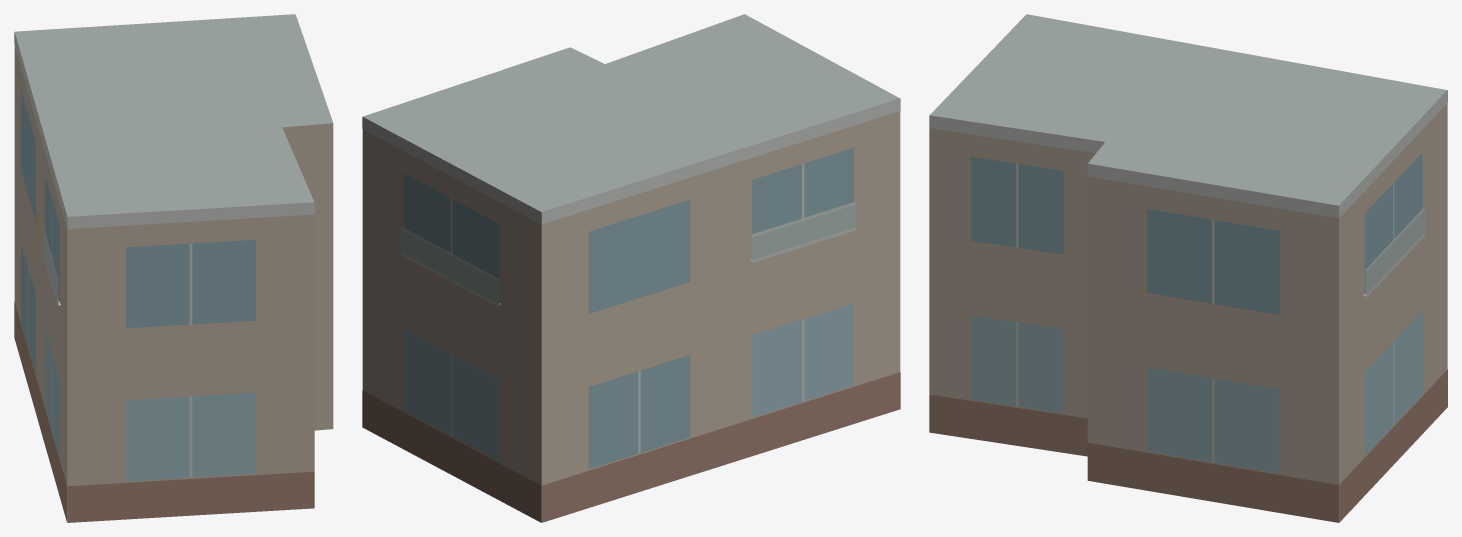
File: survey-upis-32553273.glb
3 views of the same model, side by side, from view 1: azimuth 30°, elevation 25°; view 2: azimuth 150°, elevation 25°; view 3: azimuth 270°, elevation 25° (orthographic). The views are drawn at different scales.
Parts seen in each view (by area): view 1: survey-upis-32553273.tmp; view 2: survey-upis-32553273.tmp; view 3: survey-upis-32553273.tmp.
Part boxes in pixels (<box>): survey-upis-32553273.tmp: <box>14,14,333,522</box>; survey-upis-32553273.tmp: <box>362,14,900,522</box>; survey-upis-32553273.tmp: <box>929,14,1447,522</box>.
Size of the model in its own units: 7.92 by 6.1 by 9.04.
